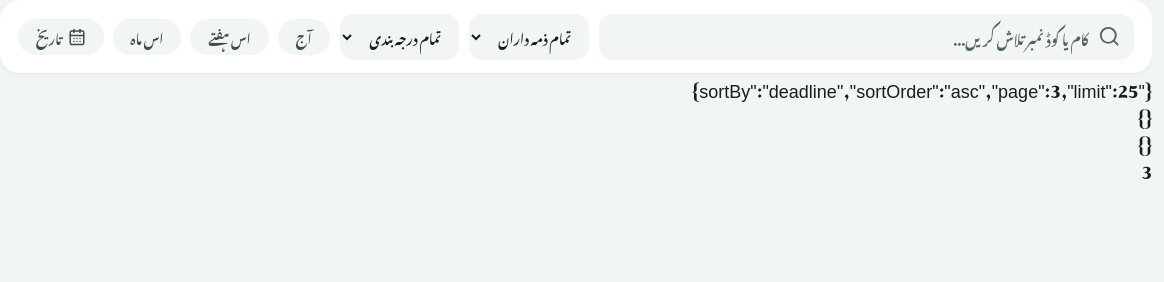
Scenario: FilterBar — the "تخمینی / اصل" filter › choosing "تخمینی" writes ratingSource=synthetic to the URL, the task query AND both KPI queries, and resets the page
Select "تخمینی" in the dropdown named "Rating source filter" at (399, 36), box [340, 14, 459, 60]
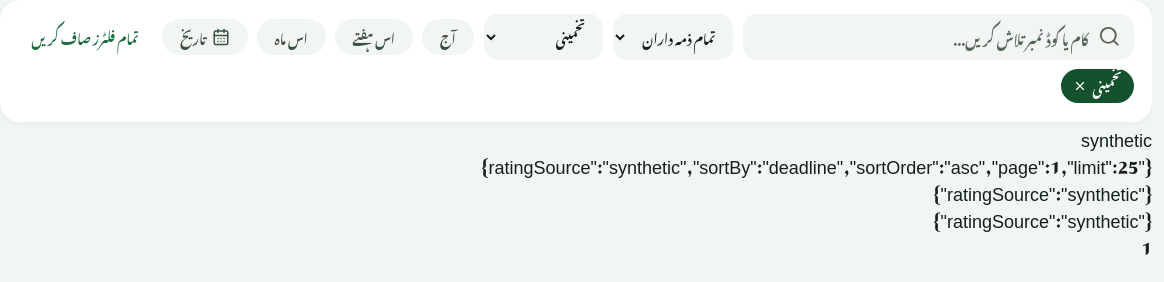
Expected: the text with test id "rating-source" reads "synthetic", [1081, 112, 1152, 158]
Expected: the text with test id "page" reads "1", [1142, 220, 1152, 266]
